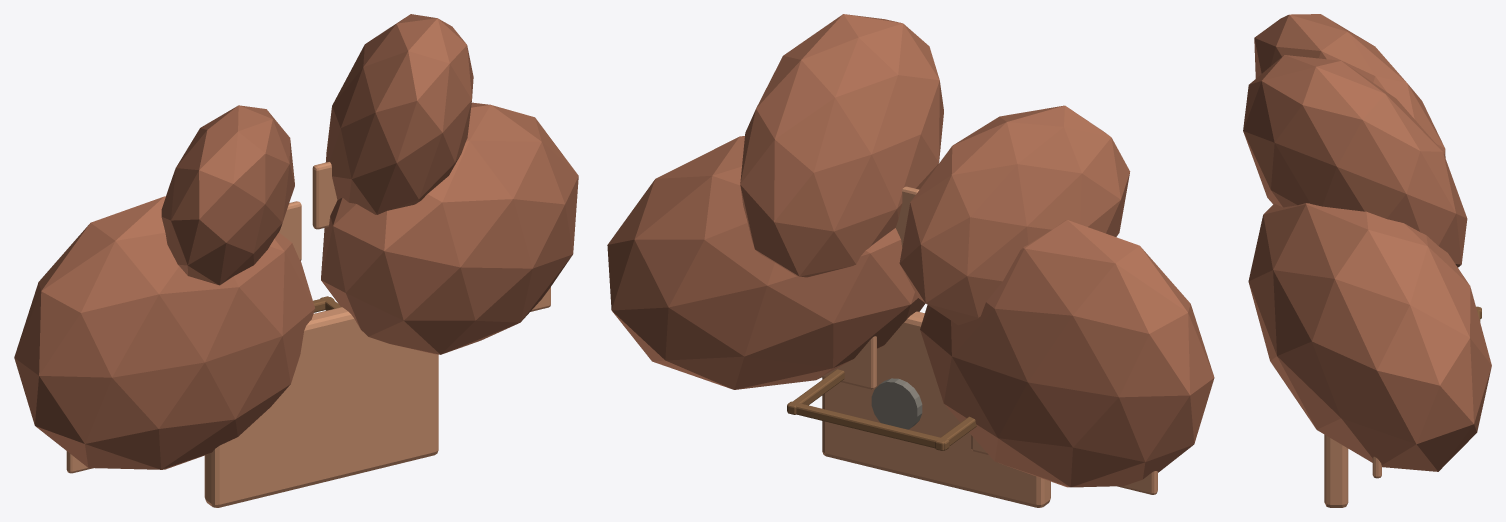
File: region-canyon-landmark.glb
3 views of the same model, side by side, from view 1: azimuth 30°, elevation 25°; view 2: azimuth 150°, elevation 25°; view 3: azimuth 270°, elevation 25° (orthographic). The views are drawn at different scales.
Visible parts, largest first — view 1: layered quarry face, layered quarry face.001, quarry work deck, layered quarry face.003, layered quarry face.002, visible cut ledge.003, visible cut ledge.002; view 2: layered quarry face, layered quarry face.001, layered quarry face.003, layered quarry face.002, quarry work deck, quarry winch, quarry crane crossbeam, visible cut ledge.001, quarry crane mast.001; view 3: layered quarry face.001, layered quarry face.003, layered quarry face.002, quarry work deck.
Part boxes in pixels (<box>): layered quarry face: <box>14,196,314,469</box>; layered quarry face.001: <box>321,102,578,354</box>; quarry work deck: <box>204,307,438,507</box>; layered quarry face.003: <box>325,14,473,214</box>; layered quarry face.002: <box>161,105,294,285</box>; visible cut ledge.003: <box>312,162,337,229</box>; visible cut ledge.002: <box>279,201,301,260</box>; layered quarry face: <box>920,220,1214,487</box>; layered quarry face.001: <box>607,136,925,389</box>; layered quarry face.003: <box>740,14,943,277</box>; layered quarry face.002: <box>899,105,1130,325</box>; quarry work deck: <box>822,311,1050,507</box>; quarry winch: <box>871,378,922,429</box>; quarry crane crossbeam: <box>787,401,949,450</box>; visible cut ledge.001: <box>820,336,876,389</box>; quarry crane mast.001: <box>787,369,844,414</box>; layered quarry face.001: <box>1248,203,1491,471</box>; layered quarry face.003: <box>1243,55,1467,267</box>; layered quarry face.002: <box>1254,14,1445,157</box>; quarry work deck: <box>1324,434,1348,507</box>.
Bounding box in the file's own units: 19.58 × 14.58 × 7.48.
